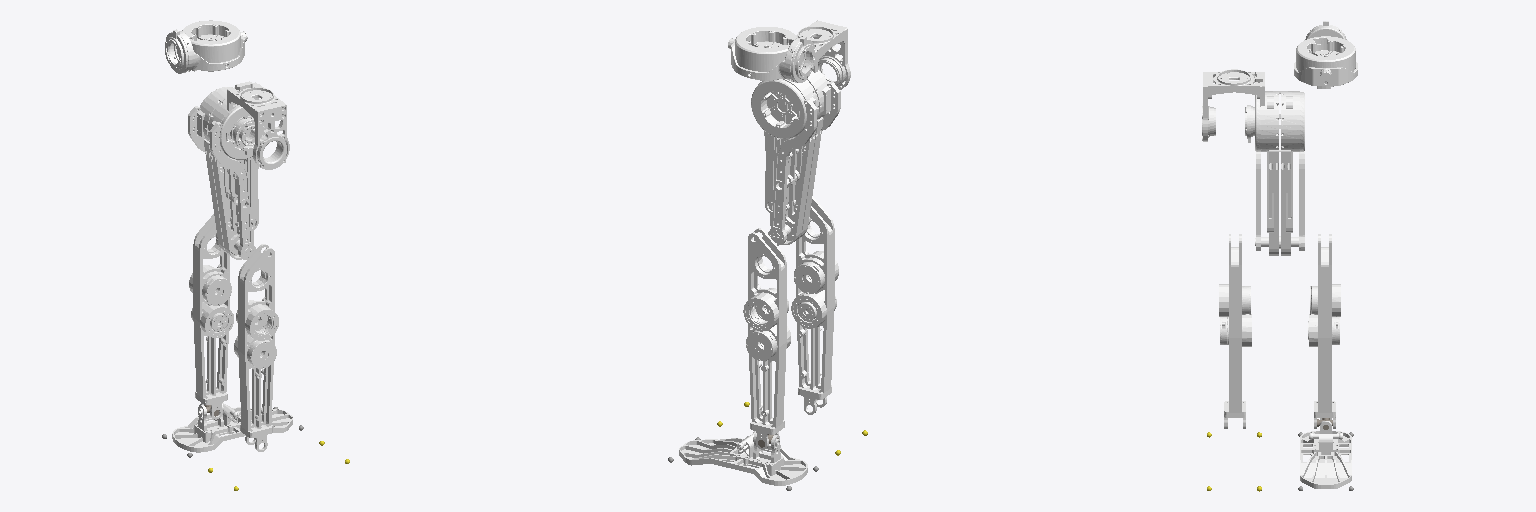
--- Facts derived from the render (not from the file) ---
The picture shows the robot from 3 angles, left to right: view 1: azimuth 30°, elevation 25°; view 2: azimuth 150°, elevation 25°; view 3: azimuth 270°, elevation 25°; orthographic projection.
Robot: biped_s42 — 28 links, 27 joints (14 revolute, 12 fixed, 1 floating); root link dummy_link; default pose: all joints at 0.
Links seen in each view (by area): view 1: leg_r4_link, leg_l4_link, leg_r3_link, leg_r2_link, leg_l1_link, leg_l3_link, leg_l6_link; view 2: leg_l4_link, leg_r4_link, leg_r3_link, leg_l3_link, leg_l1_link, leg_l6_link, leg_r2_link; view 3: leg_l4_link, leg_r4_link, leg_l3_link, leg_r3_link, leg_l1_link, leg_l6_link, leg_r2_link.
Link boxes in pixels (x1,y1,x2,y2): leg_r4_link: [234, 244, 278, 451]; leg_l4_link: [189, 214, 233, 419]; leg_r3_link: [197, 87, 258, 259]; leg_r2_link: [227, 81, 289, 169]; leg_l1_link: [165, 20, 247, 73]; leg_l3_link: [188, 99, 267, 259]; leg_l6_link: [162, 402, 303, 457]; leg_l4_link: [743, 228, 790, 449]; leg_r4_link: [791, 196, 838, 414]; leg_r3_link: [751, 79, 840, 244]; leg_l3_link: [765, 70, 830, 245]; leg_l1_link: [728, 27, 815, 82]; leg_l6_link: [668, 431, 818, 490]; leg_r2_link: [796, 20, 850, 89]; leg_l4_link: [1308, 234, 1340, 428]; leg_r4_link: [1219, 234, 1251, 428]; leg_l3_link: [1255, 91, 1304, 255]; leg_r3_link: [1255, 91, 1304, 255]; leg_l1_link: [1294, 21, 1357, 88]; leg_l6_link: [1298, 418, 1353, 490]; leg_r2_link: [1202, 69, 1264, 142].
Size in the robot's own frame: 0.2583 by 0.2975 by 0.8695 metres.
Meshes: 15 distinct files referenced, 8 mesh visuals loaded (8 binary STL); not drawn: 7 (reference not matched to a file when rendering).

URDF robot description (biped_s42):
<?xml version="1.0" encoding="utf-8"?>
<!-- This URDF was automatically created by SolidWorks to URDF Exporter! Originally created by Stephen Brawner ([email redacted]) 
     Commit Version: 1.6.0-1-g15f4949  Build Version: 1.6.7594.29634
     For more information, please see http://wiki.ros.org/sw_urdf_exporter -->
<robot
  name="biped_s42">
  <mujoco>
    <compiler meshdir="../meshes/" balanceinertia="true" discardvisual="false"/>
  </mujoco>
  <link name="dummy_link">
  </link>
  <link
    name="base_link">
    <inertial>
      <origin
        xyz="-0.01779947 0.00029663 0.18176446"
        rpy="0 0 0" />
      <mass
        value="28.6367" />
      <inertia
        ixx="0.84217451"
        ixy="-0.00019450"
        ixz="0.06746774"
        iyy="0.73769958"
        iyz="-0.00007935"
        izz="0.24371683" />
    </inertial>
    <visual>
      <origin
        xyz="0 0 0"
        rpy="0 0 0" />
      <geometry>
        <mesh
          filename="package://kuavo_assets/models/biped_s42/meshes/torso.STL" />
      </geometry>
      <material
        name="">
        <color
          rgba="1 1 1 1" />
      </material>
    </visual>
    <collision>
      <origin
        xyz="0 0 0"
        rpy="0 0 0" />
      <geometry>
        <mesh
          filename="package://kuavo_assets/models/biped_s42/meshes/torso.STL" />
      </geometry>
    </collision>
  </link>
  <joint name="dummy_to_base_link" type="floating">
      <parent link="dummy_link"/>
      <child link="base_link"/>
      <origin rpy="0 0 0" xyz="0 0 0"/>
  </joint>
  
  <link
    name="leg_l1_link">
    <inertial>
      <origin
        xyz="-0.00430148 -0.00002708 -0.00851195"
        rpy="0 0 0" />
      <mass
        value="1.71093115" />
      <inertia
        ixx="0.00206092"
        ixy="-0.00000197"
        ixz="-0.00006944"
        iyy="0.00277274"
        iyz="0.00000510"
        izz="0.00370826" />
    </inertial>
    <visual>
      <origin
        xyz="0 0 0"
        rpy="0 0 0" />
      <geometry>
        <mesh
          filename="package://kuavo_assets/models/biped_s42/meshes/l_leg_roll.STL" />
      </geometry>
      <material
        name="">
        <color
          rgba="1 1 1 1" />
      </material>
    </visual>
    <!-- <collision>
      <origin
        xyz="0 0 0"
        rpy="0 0 0" />
      <geometry>
        <mesh
          filename="package://kuavo_assets/models/biped_s42/meshes/l_leg_roll.STL" />
      </geometry>
    </collision> -->
  </link>
  <joint
    name="leg_l1_joint"
    type="revolute">
    <origin
      xyz="-0.0024999 0.087 -0.066"
      rpy="0 0 0" />
    <parent
      link="base_link" />
    <child
      link="leg_l1_link" />
    <axis
      xyz="1 0 0" />
    <limit
      lower="-0.31416"
      upper="0.66323"
      effort="0"
      velocity="0" />
  </joint>
  <link
    name="leg_l2_link">
    <inertial>
      <origin
        xyz="0.00000000 -0.00322560 -0.09080869"
        rpy="0 0 0" />
      <mass
        value="0.55762936" />
      <inertia
        ixx="0.00213816"
        ixy="0.00000000"
        ixz="-0.00000003"
        iyy="0.00118284"
        iyz="0.00004162"
        izz="0.00139547" />
    </inertial>
    <visual>
      <origin
        xyz="0 0 0"
        rpy="0 0 0" />
      <geometry>
        <mesh
          filename="package://kuavo_assets/models/biped_s42/meshes/l_leg_yaw.STL" />
      </geometry>
      <material
        name="">
        <color
          rgba="1 1 1 1" />
      </material>
    </visual>
    <!-- <collision>
      <origin
        xyz="0 0 0"
        rpy="0 0 0" />
      <geometry>
        <mesh
          filename="package://kuavo_assets/models/biped_s42/meshes/l_leg_yaw.STL" />
      </geometry>
    </collision> -->
  </link>
  <joint
    name="leg_l2_joint"
    type="revolute">
    <origin
      xyz="0 0 0"
      rpy="0 0 0" />
    <parent
      link="leg_l1_link" />
    <child
      link="leg_l2_link" />
    <axis
      xyz="0 0 1" />
    <limit
      lower="-0.87266"
      upper="0.7854"
      effort="0"
      velocity="0" />
  </joint>
  <link
    name="leg_l3_link">
    <inertial>
      <origin
        xyz="0.00185677 0.01023458 -0.08558380"
        rpy="0 0 0" />
      <mass
        value="4.43577451" />
      <inertia
        ixx="0.04271209"
        ixy="-0.00000777"
        ixz="-0.00143032"
        iyy="0.04341831"
        iyz="-0.00092942"
        izz="0.01102339" />
    </inertial>
    <visual>
      <origin
        xyz="0 0 0"
        rpy="0 0 0" />
      <geometry>
        <mesh
          filename="package://kuavo_assets/models/biped_s42/meshes/l_leg_pitch.STL" />
      </geometry>
      <material
        name="">
        <color
          rgba="1 1 1 1" />
      </material>
    </visual>
    <!-- <collision>
      <origin
        xyz="0 0 0"
        rpy="0 0 0" />
      <geometry>
        <mesh
          filename="package://kuavo_assets/models/biped_s42/meshes/l_leg_pitch.STL" />
      </geometry>
    </collision> -->
  </link>
  <joint
    name="leg_l3_joint"
    type="revolute">
    <origin
      xyz="0 0 -0.1287"
      rpy="0 0 0" />
    <parent
      link="leg_l2_link" />
    <child
      link="leg_l3_link" />
    <axis
      xyz="0 1 0" />
    <limit
      lower="-1.5708"
      upper="2.0071"
      effort="0"
      velocity="0" />
  </joint>
  <link
    name="leg_l4_link">
    <inertial>
      <origin
        xyz="0.00716677 -0.00006696 -0.11481925"
        rpy="0 0 0" />
      <mass
        value="1.61274530" />
      <inertia
        ixx="0.01103699"
        ixy="0.00000084"
        ixz="-0.00000711"
        iyy="0.01095123"
        iyz="0.00000987"
        izz="0.00087225" />
    </inertial>
    <visual>
      <origin
        xyz="0 0 0"
        rpy="0 0 0" />
      <geometry>
        <mesh
          filename="package://kuavo_assets/models/biped_s42/meshes/l_knee.STL" />
      </geometry>
      <material
        name="">
        <color
          rgba="1 1 1 1" />
      </material>
    </visual>
    <!-- <collision>
      <origin
        xyz="0 0 0"
        rpy="0 0 0" />
      <geometry>
        <mesh
          filename="package://kuavo_assets/models/biped_s42/meshes/l_knee.STL" />
      </geometry>
    </collision> -->
  </link>
  <joint
    name="leg_l4_joint"
    type="revolute">
    <origin
      xyz="0 0 -0.284"
      rpy="0 0 0" />
    <parent
      link="leg_l3_link" />
    <child
      link="leg_l4_link" />
    <axis
      xyz="0 1 0" />
    <limit
      lower="0"
      upper="2.618"
      effort="0"
      velocity="0" />
  </joint>
  <link
    name="leg_l5_link">
    <inertial>
      <origin
        xyz="0.00000000 0.00000000 0.00000000"
        rpy="0 0 0" />
      <mass
        value="0.07193524" />
      <inertia
        ixx="0.00000692"
        ixy="0.00000000"
        ixz="0.00000000"
        iyy="0.00000692"
        iyz="0.00000000"
        izz="0.00001218" />
    </inertial>
    <visual>
      <origin
        xyz="0 0 0"
        rpy="0 0 0" />
      <geometry>
        <mesh
          filename="package://kuavo_assets/models/biped_s42/meshes/l_foot_pitch.STL" />
      </geometry>
      <material
        name="">
        <color
          rgba="0.647058823529412 0.619607843137255 0.588235294117647 1" />
      </material>
    </visual>
    <!-- <collision>
      <origin
        xyz="0 0 0"
        rpy="0 0 0" />
      <geometry>
        <mesh
          filename="package://kuavo_assets/models/biped_s42/meshes/l_foot_pitch.STL" />
      </geometry>
    </collision> -->
  </link>
  <joint
    name="leg_l5_joint"
    type="revolute">
    <origin
      xyz="0 0 -0.346"
      rpy="0 0 0" />
    <parent
      link="leg_l4_link" />
    <child
      link="leg_l5_link" />
    <axis
      xyz="0 1 0" />
    <limit
      lower="-0.38397"
      upper="0.73304"
      effort="0"
      velocity="0" />
  </joint>
  <link
    name="leg_l6_link">
    <inertial>
      <origin
        xyz="0.03732754 -0.00000222 -0.03883977"
        rpy="0 0 0" />
      <mass
        value="0.49861272" />
      <inertia
        ixx="0.00039242"
        ixy="-0.00000003"
        ixz="-0.00004664"
        iyy="0.00158655"
        iyz="0.00000000"
        izz="0.00172576" />
    </inertial>
    <visual>
      <origin
        xyz="0 0 0"
        rpy="0 0 0" />
      <geometry>
        <mesh
          filename="package://kuavo_assets/models/biped_s42/meshes/l_foot_roll.STL" />
      </geometry>
      <material
        name="">
        <color
          rgba="1 1 1 1" />
      </material>
    </visual>
    <!-- <collision>
      <origin
        xyz="0 0 0"
        rpy="0 0 0" />
      <geometry>
        <mesh
          filename="package://kuavo_assets/models/biped_s42/meshes/l_foot_roll.STL" />
      </geometry>
    </collision> -->
    <visual>
      <origin rpy="0 0 0" xyz="-0.07316 0.04773 -0.0593" />
      <geometry>
        <sphere radius="0.005" />
      </geometry>
    </visual>
    <collision>
      <origin rpy="0 0 0" xyz="-0.07316 0.04773 -0.0593" />
      <geometry>
        <sphere radius="0.005" />
      </geometry>
    </collision>
    <visual>
      <origin rpy="0 0 0" xyz="-0.07316 -0.04773 -0.0593" />
      <geometry>
        <sphere radius="0.005" />
      </geometry>
    </visual>
    <collision>
      <origin rpy="0 0 0" xyz="-0.07316 -0.04773 -0.0593" />
      <geometry>
        <sphere radius="0.005" />
      </geometry>
    </collision>
    <visual>
      <origin rpy="0 0 0" xyz="0.16902 0.04773 -0.0593" />
      <geometry>
        <sphere radius="0.005" />
      </geometry>
    </visual>
    <collision>
      <origin rpy="0 0 0" xyz="0.16902 0.04773 -0.0593" />
      <geometry>
        <sphere radius="0.005" />
      </geometry>
    </collision>
    <visual>
      <origin rpy="0 0 0" xyz="0.16902 -0.04773 -0.0593" />
      <geometry>
        <sphere radius="0.005" />
      </geometry>
    </visual>
    <collision>
      <origin rpy="0 0 0" xyz="0.16902 -0.04773 -0.0593" />
      <geometry>
        <sphere radius="0.005" />
      </geometry>
    </collision>
  </link>
  <joint
    name="leg_l6_joint"
    type="revolute">
    <origin
      xyz="0 0 0"
      rpy="0 0 0" />
    <parent
      link="leg_l5_link" />
    <child
      link="leg_l6_link" />
    <axis
      xyz="1 0 0" />
    <limit
      lower="-0.5236"
      upper="0.5236"
      effort="0"
      velocity="0" />
  </joint>

  <link
    name="ll_foot_toe">
    <collision>
        <origin rpy="0 0 0" xyz="0 0 0"/>
        <geometry>
            <sphere radius="0.005"/>
        </geometry>
    </collision>
  </link>
  <joint
    name="ll_foot_toe_joint"
    type="fixed">
    <origin
      xyz="0.16902 0.04773 -0.0593"
      rpy="0 0 0" />
    <parent
      link="leg_l6_link" />
    <child
      link="ll_foot_toe" />
  </joint>
  <link
    name="ll_foot_heel">
    <collision>
        <origin rpy="0 0 0" xyz="0 0 0"/>
        <geometry>
            <sphere radius="0.005"/>
        </geometry>
    </collision>
  </link>
  <joint
    name="ll_foot_heel_joint"
    type="fixed">
    <origin
      xyz="-0.07316 0.04773 -0.0593"
      rpy="0 0 0" />
    <parent
      link="leg_l6_link" />
    <child
      link="ll_foot_heel" />
  </joint>

  <link
    name="lr_foot_toe">
    <collision>
        <origin rpy="0 0 0" xyz="0 0 0"/>
        <geometry>
            <sphere radius="0.005"/>
        </geometry>
    </collision>
  </link>
  <joint
    name="lr_foot_toe_joint"
    type="fixed">
    <origin
      xyz="0.16902 -0.04773 -0.0593"
      rpy="0 0 0" />
    <parent
      link="leg_l6_link" />
    <child
      link="lr_foot_toe" />
  </joint>
  <link
    name="lr_foot_heel">
    <collision>
        <origin rpy="0 0 0" xyz="0 0 0"/>
        <geometry>
            <sphere radius="0.005"/>
        </geometry>
    </collision>
  </link>
  <joint
    name="lr_foot_heel_joint"
    type="fixed">
    <origin
      xyz="-0.07316 -0.04773 -0.0593"
      rpy="0 0 0" />
    <parent
      link="leg_l6_link" />
    <child
      link="lr_foot_heel" />
  </joint>
  <link
    name="l_foot_toe">
    <collision>
        <origin rpy="0 0 0" xyz="0 0 0"/>
        <geometry>
            <sphere radius="0.005"/>
        </geometry>
    </collision>
  </link>
  <joint
    name="l_foot_toe_joint"
    type="fixed">
    <origin
      xyz="0.17084 0.0 -0.0593"
      rpy="0 0 0" />
    <parent
      link="leg_l6_link" />
    <child
      link="l_foot_toe" />
  </joint>
  <link
    name="l_foot_heel">
    <collision>
        <origin rpy="0 0 0" xyz="0 0 0"/>
        <geometry>
            <sphere radius="0.005"/>
        </geometry>
    </collision>
  </link>
  <joint
    name="l_foot_heel_joint"
    type="fixed">
    <origin
      xyz="-0.07316 0.0 -0.0593"
      rpy="0 0 0" />
    <parent
      link="leg_l6_link" />
    <child
      link="l_foot_heel" />
  </joint>
  
  <link
    name="leg_r1_link">
    <inertial>
      <origin
        xyz="-0.00430146 0.00002709 -0.00851195"
        rpy="0 0 0" />
      <mass
        value="1.71093008" />
      <inertia
        ixx="0.00206092"
        ixy="0.00000197"
        ixz="-0.00006944"
        iyy="0.00277274"
        iyz="-0.00000510"
        izz="0.00370826" />
    </inertial>
    <visual>
      <origin
        xyz="0 0 0"
        rpy="0 0 0" />
      <geometry>
        <mesh
          filename="package://kuavo_assets/models/biped_s42/meshes/r_leg_roll.STL" />
      </geometry>
      <material
        name="">
        <color
          rgba="1 1 1 1" />
      </material>
    </visual>
    <!-- <collision>
      <origin
        xyz="0 0 0"
        rpy="0 0 0" />
      <geometry>
        <mesh
          filename="package://kuavo_assets/models/biped_s42/meshes/r_leg_roll.STL" />
      </geometry>
    </collision> -->
  </link>
  <joint
    name="leg_r1_joint"
    type="revolute">
    <origin
      xyz="-0.0024999 -0.087 -0.066"
      rpy="0 0 0" />
    <parent
      link="base_link" />
    <child
      link="leg_r1_link" />
    <axis
      xyz="1 0 0" />
    <limit
      lower="-0.31416"
      upper="0.66323"
      effort="0"
      velocity="0" />
  </joint>
  <link
    name="leg_r2_link">
    <inertial>
      <origin
        xyz="0.00000000 0.00322561 -0.09080869"
        rpy="0 0 0" />
      <mass
        value="0.55762928" />
      <inertia
        ixx="0.00213816"
        ixy="0.00000000"
        ixz="-0.00000003"
        iyy="0.00118284"
        iyz="-0.00004162"
        izz="0.00139547" />
    </inertial>
    <visual>
      <origin
        xyz="0 0 0"
        rpy="0 0 0" />
      <geometry>
        <mesh
          filename="package://kuavo_assets/models/biped_s42/meshes/r_leg_yaw.STL" />
      </geometry>
      <material
        name="">
        <color
          rgba="1 1 1 1" />
      </material>
    </visual>
    <!-- <collision>
      <origin
        xyz="0 0 0"
        rpy="0 0 0" />
      <geometry>
        <mesh
          filename="package://kuavo_assets/models/biped_s42/meshes/r_leg_yaw.STL" />
      </geometry>
    </collision> -->
  </link>
  <joint
    name="leg_r2_joint"
    type="revolute">
    <origin
      xyz="0 0 0"
      rpy="0 0 0" />
    <parent
      link="leg_r1_link" />
    <child
      link="leg_r2_link" />
    <axis
      xyz="0 0 1" />
    <limit
      lower="-0.87266"
      upper="0.7854"
      effort="0"
      velocity="0" />
  </joint>
  <link
    name="leg_r3_link">
    <inertial>
      <origin
        xyz="0.00185677 -0.01023458 -0.08558380"
        rpy="0 0 0" />
      <mass
        value="4.43577451" />
      <inertia
        ixx="0.04271209"
        ixy="-0.00000777"
        ixz="-0.00143032"
        iyy="0.04420935"
        iyz="-0.00092942"
        izz="0.01102339" />
    </inertial>
    <visual>
      <origin
        xyz="0 0 0"
        rpy="0 0 0" />
      <geometry>
        <mesh
          filename="package://kuavo_assets/models/biped_s42/meshes/r_leg_pitch.STL" />
      </geometry>
      <material
        name="">
        <color
          rgba="1 1 1 1" />
      </material>
    </visual>
    <!-- <collision>
      <origin
        xyz="0 0 0"
        rpy="0 0 0" />
      <geometry>
        <mesh
          filename="package://kuavo_assets/models/biped_s42/meshes/r_leg_pitch.STL" />
      </geometry>
    </collision> -->
  </link>
  <joint
    name="leg_r3_joint"
    type="revolute">
    <origin
      xyz="0 0 -0.1287"
      rpy="0 0 0" />
    <parent
      link="leg_r2_link" />
    <child
      link="leg_r3_link" />
    <axis
      xyz="0 1 0" />
    <limit
      lower="-1.5708"
      upper="2.0071"
      effort="0"
      velocity="0" />
  </joint>
  <link
    name="leg_r4_link">
    <inertial>
      <origin
        xyz="0.00716677 0.00006696 -0.11481925"
        rpy="0 0 0" />
      <mass
        value="1.61274530" />
      <inertia
        ixx="0.01103699"
        ixy="0.00000084"
        ixz="-0.00000711"
        iyy="0.01095123"
        iyz="0.00000987"
        izz="0.00087225" />
    </inertial>
    <visual>
      <origin
        xyz="0 0 0"
        rpy="0 0 0" />
      <geometry>
        <mesh
          filename="package://kuavo_assets/models/biped_s42/meshes/r_knee.STL" />
      </geometry>
      <material
        name="">
        <color
          rgba="1 1 1 1" />
      </material>
    </visual>
    <!-- <collision>
      <origin
        xyz="0 0 0"
        rpy="0 0 0" />
      <geometry>
        <mesh
          filename="package://kuavo_assets/models/biped_s42/meshes/r_knee.STL" />
      </geometry>
    </collision> -->
  </link>
  <joint
    name="leg_r4_joint"
    type="revolute">
    <origin
      xyz="0 0 -0.284"
      rpy="0 0 0" />
    <parent
      link="leg_r3_link" />
    <child
      link="leg_r4_link" />
    <axis
      xyz="0 1 0" />
    <limit
      lower="0"
      upper="2.618"
      effort="0"
      velocity="0" />
  </joint>
  <link
    name="leg_r5_link">
    <inertial>
      <origin
        xyz="0.00000000 0.00000000 0.00000000"
        rpy="0 0 0" />
      <mass
        value="0.07193524" />
      <inertia
        ixx="0.00000692"
        ixy="0.00000000"
        ixz="0.00000000"
        iyy="0.00000692"
        iyz="0.00000000"
        izz="0.00001218" />
    </inertial>
    <visual>
      <origin
        xyz="0 0 0"
        rpy="0 0 0" />
      <geometry>
        <mesh
          filename="package://kuavo_assets/models/biped_s42/meshes/r_foot_pitch.STL" />
      </geometry>
      <material
        name="">
        <color
          rgba="0.647058823529412 0.619607843137255 0.588235294117647 1" />
      </material>
    </visual>
    <!-- <collision>
      <origin
        xyz="0 0 0"
        rpy="0 0 0" />
      <geometry>
        <mesh
          filename="package://kuavo_assets/models/biped_s42/meshes/r_foot_pitch.STL" />
      </geometry>
    </collision> -->
  </link>
  <joint
    name="leg_r5_joint"
    type="revolute">
    <origin
      xyz="0 0 -0.346"
      rpy="0 0 0" />
    <parent
      link="leg_r4_link" />
    <child
      link="leg_r5_link" />
    <axis
      xyz="0 1 0" />
    <limit
      lower="-0.38397"
      upper="0.73304"
      effort="0"
      velocity="0" />
  </joint>
  <link
    name="leg_r6_link">
    <inertial>
      <origin
        xyz="0.03732754 -0.00000222 -0.03883977"
        rpy="0 0 0" />
      <mass
        value="0.49861272" />
      <inertia
        ixx="0.00039242"
        ixy="-0.00000003"
        ixz="-0.00004664"
        iyy="0.00158655"
        iyz="0.00000000"
        izz="0.00172576" />
    </inertial>
    <visual>
      <origin
        xyz="0 0 0"
        rpy="0 0 0" />
      <geometry>
        <mesh
          filename="package://kuavo_assets/models/biped_s42/meshes/r_foot_roll.STL" />
      </geometry>
      <material
        name="">
        <color
          rgba="1 1 1 1" />
      </material>
    </visual>
    <!-- <collision>
      <origin
        xyz="0 0 0"
        rpy="0 0 0" />
      <geometry>
        <mesh
          filename="package://kuavo_assets/models/biped_s42/meshes/r_foot_roll.STL" />
      </geometry>
    </collision> -->
    <visual>
      <origin rpy="0 0 0" xyz="-0.07316 0.04773 -0.0593" />
      <geometry>
        <sphere radius="0.005" />
      </geometry>
    </visual>
    <collision>
      <origin rpy="0 0 0" xyz="-0.07316 0.04773 -0.0593" />
      <geometry>
        <sphere radius="0.005" />
      </geometry>
    </collision>
    <visual>
      <origin rpy="0 0 0" xyz="-0.07316 -0.04773 -0.0593" />
      <geometry>
        <sphere radius="0.005" />
      </geometry>
    </visual>
    <collision>
      <origin rpy="0 0 0" xyz="-0.07316 -0.04773 -0.0593" />
      <geometry>
        <sphere radius="0.005" />
      </geometry>
    </collision>
    <visual>
      <origin rpy="0 0 0" xyz="0.16902 0.04773 -0.0593" />
      <geometry>
        <sphere radius="0.005" />
      </geometry>
    </visual>
    <collision>
      <origin rpy="0 0 0" xyz="0.16902 0.04773 -0.0593" />
      <geometry>
        <sphere radius="0.005" />
      </geometry>
    </collision>
    <visual>
      <origin rpy="0 0 0" xyz="0.16902 -0.04773 -0.0593" />
      <geometry>
        <sphere radius="0.005" />
      </geometry>
    </visual>
    <collision>
      <origin rpy="0 0 0" xyz="0.16902 -0.04773 -0.0593" />
      <geometry>
        <sphere radius="0.005" />
      </geometry>
    </collision>
  </link>
  <joint
    name="leg_r6_joint"
    type="revolute">
    <origin
      xyz="0 0 0"
      rpy="0 0 0" />
    <parent
      link="leg_r5_link" />
    <child
      link="leg_r6_link" />
    <axis
      xyz="1 0 0" />
    <limit
      lower="-0.5236"
      upper="0.5236"
      effort="0"
      velocity="0" />
  </joint>

  <link
    name="rl_foot_toe">
    <collision>
        <origin rpy="0 0 0" xyz="0 0 0"/>
        <geometry>
            <sphere radius="0.005"/>
        </geometry>
    </collision>
  </link>
  <joint
    name="rl_foot_toe_joint"
    type="fixed">
    <origin
      xyz="0.16902 0.04773 -0.0593"
      rpy="0 0 0" />
    <parent
      link="leg_r6_link" />
    <child
      link="rl_foot_toe" />
  </joint>
  <link
    name="rl_foot_heel">
    <collision>
        <origin rpy="0 0 0" xyz="0 0 0"/>
        <geometry>
            <sphere radius="0.005"/>
        </geometry>
    </collision>
  </link>
  <joint
    name="rl_foot_heel_joint"
    type="fixed">
    <origin
      xyz="-0.07316 0.04773 -0.0593"
      rpy="0 0 0" />
    <parent
      link="leg_r6_link" />
    <child
      link="rl_foot_heel" />
  </joint>
  <link
    name="rr_foot_toe">
    <collision>
        <origin rpy="0 0 0" xyz="0 0 0"/>
        <geometry>
            <sphere radius="0.005"/>
        </geometry>
    </collision>
  </link>
  <joint
    name="rr_foot_toe_joint"
    type="fixed">
    <origin
      xyz="0.16902 -0.04773 -0.0593"
      rpy="0 0 0" />
    <parent
      link="leg_r6_link" />
    <child
      link="rr_foot_toe" />
  </joint>
  <link
    name="rr_foot_heel">
    <collision>
        <origin rpy="0 0 0" xyz="0 0 0"/>
        <geometry>
            <sphere radius="0.005"/>
        </geometry>
    </collision>
  </link>
  <joint
    name="rr_foot_heel_joint"
    type="fixed">
    <origin
      xyz="-0.07316 -0.04773 -0.0593"
      rpy="0 0 0" />
    <parent
      link="leg_r6_link" />
    <child
      link="rr_foot_heel" />
  </joint>
  <link
    name="r_foot_toe">
    <collision>
        <origin rpy="0 0 0" xyz="0 0 0"/>
        <geometry>
            <sphere radius="0.005"/>
        </geometry>
    </collision>
  </link>
  <joint
    name="r_foot_toe_joint"
    type="fixed">
    <origin
      xyz="0.17084 -0.0 -0.0593"
      rpy="0 0 0" />
    <parent
      link="leg_r6_link" />
    <child
      link="r_foot_toe" />
  </joint>
  <link
    name="r_foot_heel">
    <collision>
        <origin rpy="0 0 0" xyz="0 0 0"/>
        <geometry>
            <sphere radius="0.005"/>
        </geometry>
    </collision>
  </link>
  <joint
    name="r_foot_heel_joint"
    type="fixed">
    <origin
      xyz="-0.07316 -0.0 -0.0593"
      rpy="0 0 0" />
    <parent
      link="leg_r6_link" />
    <child
      link="r_foot_heel" />
  </joint>

  <link
    name="zarm_l1_link">
    <inertial>
      <origin
        xyz="0.0146835191418715 -0.0166604103758634 -6.82857133371129E-05"
        rpy="0 0 0" />
      <mass
        value="0.794" />
      <inertia
        ixx="0.0002674432873971"
        ixy="-2.5654089149164E-05"
        ixz="-1.72966133127553E-07"
        iyy="0.000125796784291983"
        iyz="-1.66717296343013E-06"
        izz="0.000196186976742156" />
    </inertial>
    <visual>
      <origin
        xyz="0 0 0"
        rpy="0 0 0" />
      <geometry>
        <mesh
          filename="package://kuavo_assets/models/biped_s42/meshes/l_arm_pitch.STL" />
      </geometry>
      <material
        name="">
        <color
          rgba="1 1 1 1" />
      </material>
    </visual>    
  </link>
  <joint
    name="zarm_l1_joint"
    type="revolute">
    <origin
      xyz="-0.0175475823124921 0.262700000000031 0.4245"
      rpy="0 0 0" />
    <parent
      link="base_link" />
    <child
      link="zarm_l1_link" />
    <axis
      xyz="0 1 0" />
    <limit 
      lower="-2.0933" 
      upper="0.5233" 
      effort="60" 
      velocity="14" />
    <dynamic
      damping="0.2" />
  </joint>

  <link
    name="zarm_r1_link">
    <inertial>
      <origin
        xyz="0.0146743511434554 0.0168298008224051 -8.16711977456031E-05"
        rpy="0 0 0" />
      <mass
        value="0.794" />
      <inertia
        ixx="0.000267364314112701"
        ixy="2.58822573731612E-05"
        ixz="-1.74450019197634E-07"
        iyy="0.000125724274127356"
        iyz="1.71810516637517E-06"
        izz="0.000196179895851995" />
    </inertial>
    <visual>
      <origin
        xyz="0 0 0"
        rpy="0 0 0" />
      <geometry>
        <mesh
          filename="package://kuavo_assets/models/biped_s42/meshes/r_arm_pitch.STL" />
      </geometry>
      <material
        name="">
        <color
          rgba="1 1 1 1" />
      </material>
    </visual>   
  </link>
  <joint
    name="zarm_r1_joint"
    type="revolute">
    <origin
      xyz="-0.0175475823119764 -0.262700000000031 0.4245"
      rpy="0 0 0" />
    <parent
      link="base_link" />
    <child
      link="zarm_r1_link" />
    <axis
      xyz="0 1 0" />
    <limit 
      lower="-2.0933" 
      upper="0.5233" 
      effort="60" 
      velocity="14" />
    <dynamic
      damping="0.2" />
  </joint>
  

</robot>
